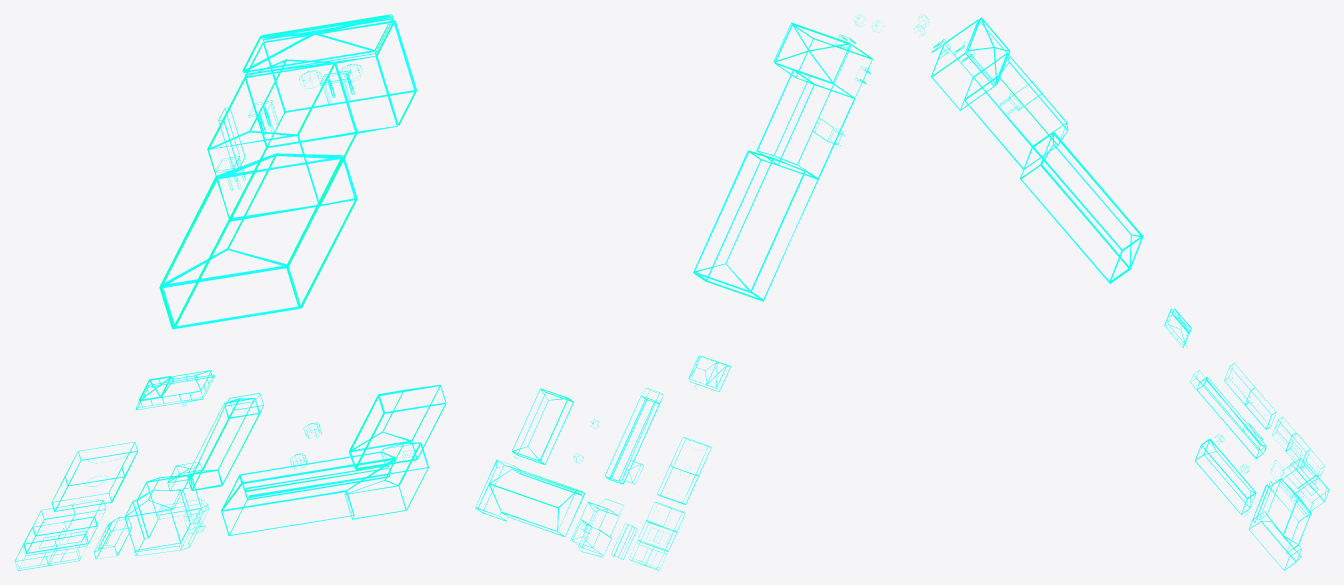
3 renders of one model, left to right at view 1: azimuth 30°, elevation 25°; view 2: azimuth 150°, elevation 25°; view 3: azimuth 270°, elevation 25°, orthographic. The views are drawn at different scales.
Parts seen in each view (by area): view 1: SketchUp.025; view 2: SketchUp.025; view 3: SketchUp.025.
Boxes of the visible parts, left/top/right/bottom form: SketchUp.025: left=14, top=14, right=446, bottom=570; SketchUp.025: left=475, top=14, right=881, bottom=570; SketchUp.025: left=913, top=14, right=1329, bottom=570.
Bounding box in the file's own units: 4.79 × 8.2 × 6.97.
